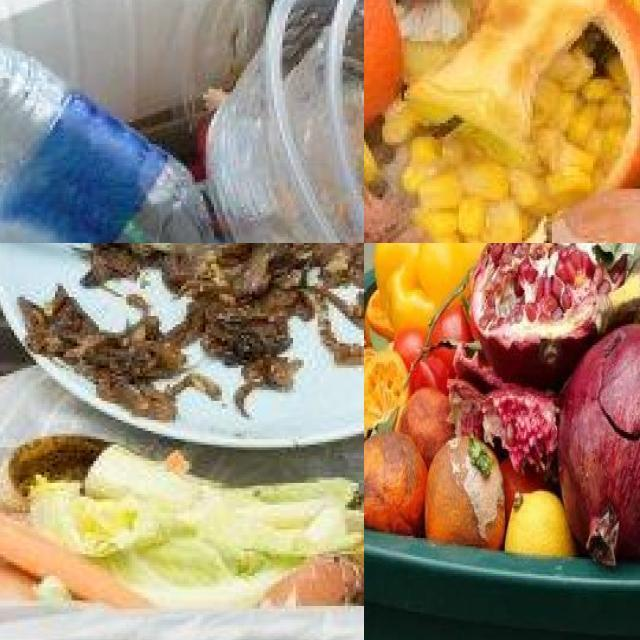Disposable: (209, 0, 364, 243)
Garbage: (364, 243, 640, 574), (364, 0, 640, 243), (0, 435, 364, 608), (20, 243, 364, 421)
Plastic_bottle: (0, 42, 221, 243)
contaminated_waste: (0, 43, 221, 243), (209, 0, 364, 243)
